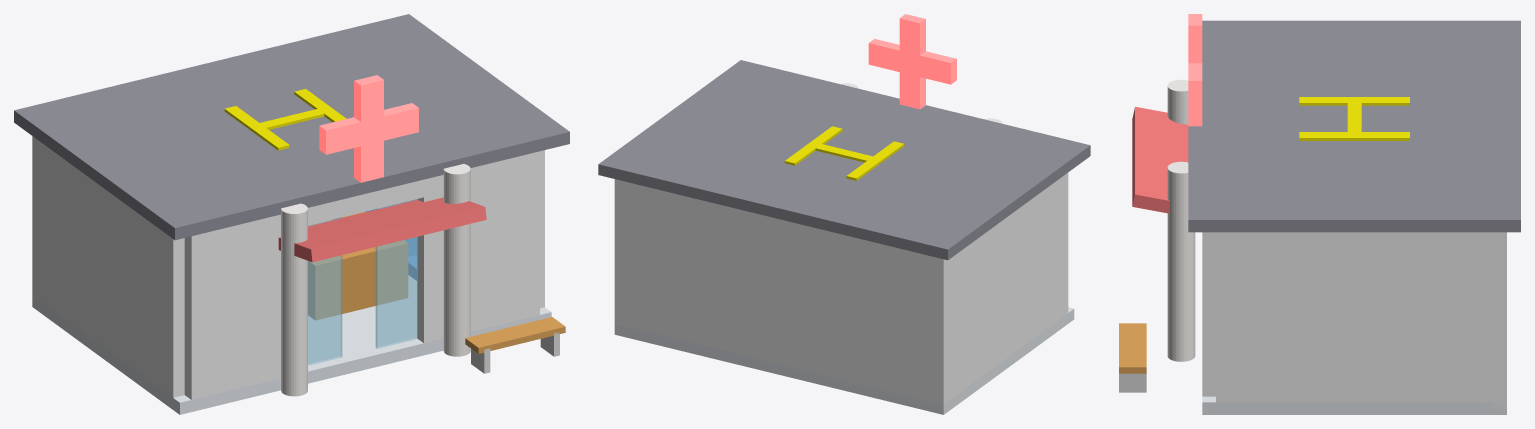
File: gen_1772935295443.glb
3 renders of one model, left to right at view 1: azimuth 30°, elevation 25°; view 2: azimuth 150°, elevation 25°; view 3: azimuth 270°, elevation 25°, orthographic. The views are drawn at different scales.
Parts seen in each view (by area): view 1: Cube.001, Cube.003, Cube.005, Cube.006, Cube, Cube.010, Cube.016, Cylinder, Cylinder.001, Cube.009, Cube.008, Cube.011 (+8 smaller); view 2: Cube.001, Cube.002, Cube.003, Cube, Cube.011, Cube.012, Cube.013, Cube.014, Cube.015; view 3: Cube.001, Cube.004, Cylinder.001, Cube.010, Cube, Cube.002, Cube.006, Cube.035, Cube.011, Cube.014, Cube.013, Cylinder (+3 smaller).
Part boxes in pixels (box(x1,y1,x2,y2)): Cube.001: box(14, 14, 569, 240); Cube.003: box(39, 141, 184, 397); Cube.005: box(184, 214, 280, 399); Cube.006: box(417, 151, 539, 342); Cube: box(32, 275, 551, 414); Cube.010: box(278, 197, 486, 262); Cube.016: box(308, 240, 407, 320); Cylinder: box(281, 203, 307, 396); Cylinder.001: box(443, 164, 470, 356); Cube.009: box(375, 199, 417, 348); Cube.008: box(308, 217, 342, 365); Cube.011: box(354, 75, 383, 182); Cube.001: box(598, 60, 1090, 260); Cube.002: box(614, 179, 949, 409); Cube.003: box(949, 172, 1068, 399); Cube: box(614, 307, 1074, 414); Cube.011: box(899, 14, 925, 109); Cube.012: box(868, 39, 956, 84); Cube.013: box(846, 141, 904, 180); Cube.014: box(784, 126, 842, 165); Cube.015: box(815, 144, 872, 162); Cube.001: box(1188, 20, 1520, 232); Cube.004: box(1216, 232, 1493, 407); Cylinder.001: box(1167, 161, 1195, 361); Cube.010: box(1132, 106, 1188, 213); Cube: box(1202, 396, 1506, 414); Cube.002: box(1493, 232, 1506, 408); Cube.006: box(1202, 232, 1215, 396); Cube.035: box(1119, 323, 1146, 373); Cube.011: box(1188, 14, 1202, 126); Cube.014: box(1299, 132, 1409, 140); Cube.013: box(1299, 97, 1409, 105); Cylinder: box(1167, 79, 1188, 124).
Size of the model in its own units: 6.8 by 4.8 by 5.8.
